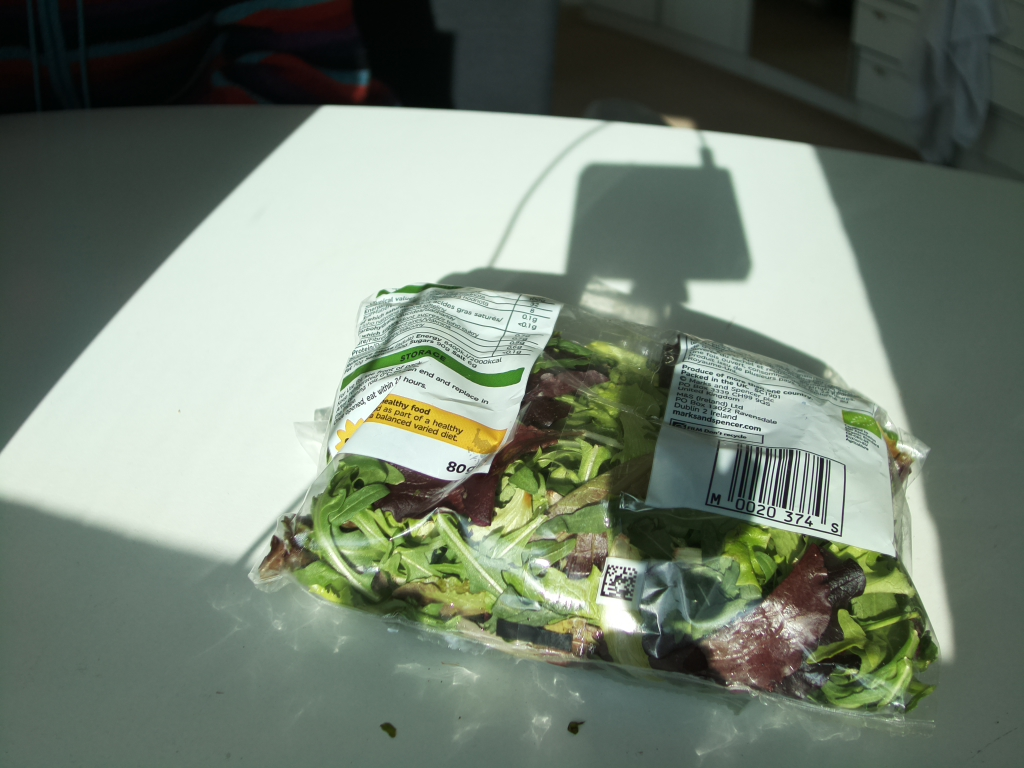salad: (256, 284, 942, 731)
